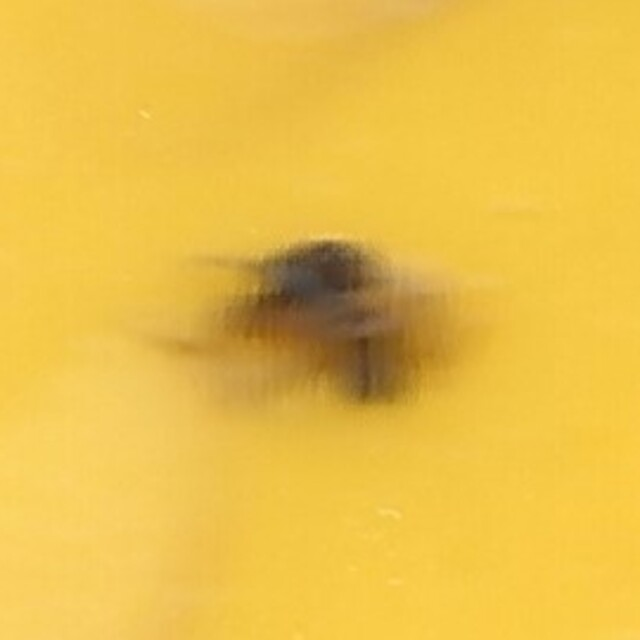Brachycera: (237, 224, 403, 416)
